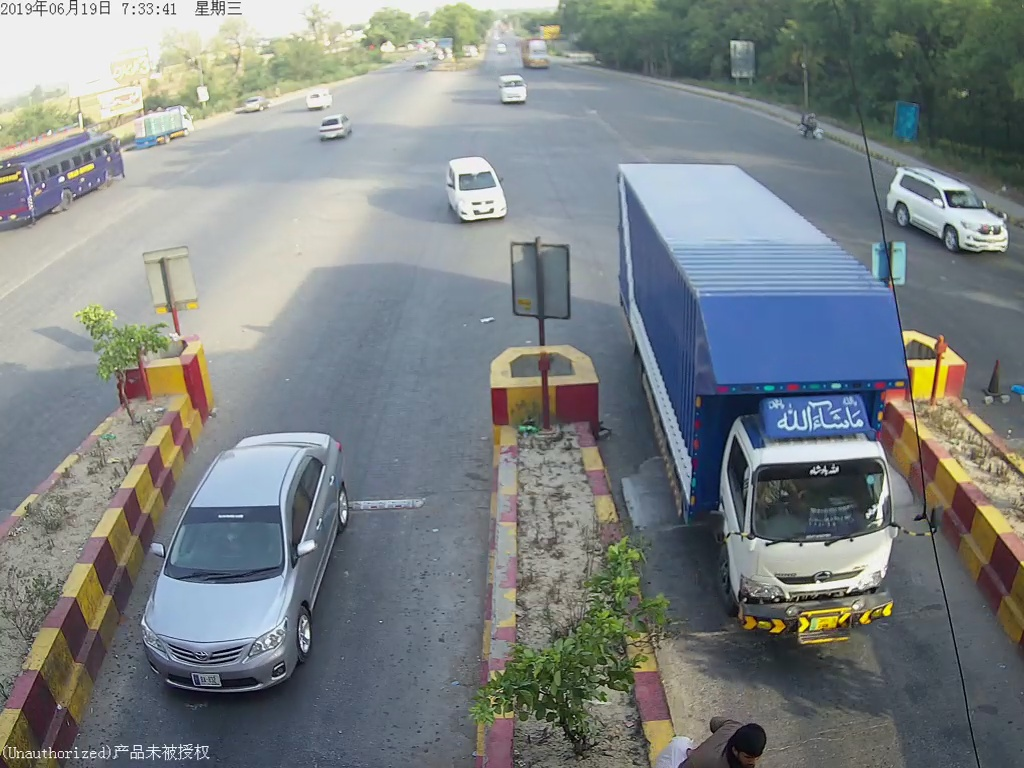Cat-1: (143, 474, 373, 690), (441, 157, 515, 234)
Cat-4: (622, 152, 937, 657)
